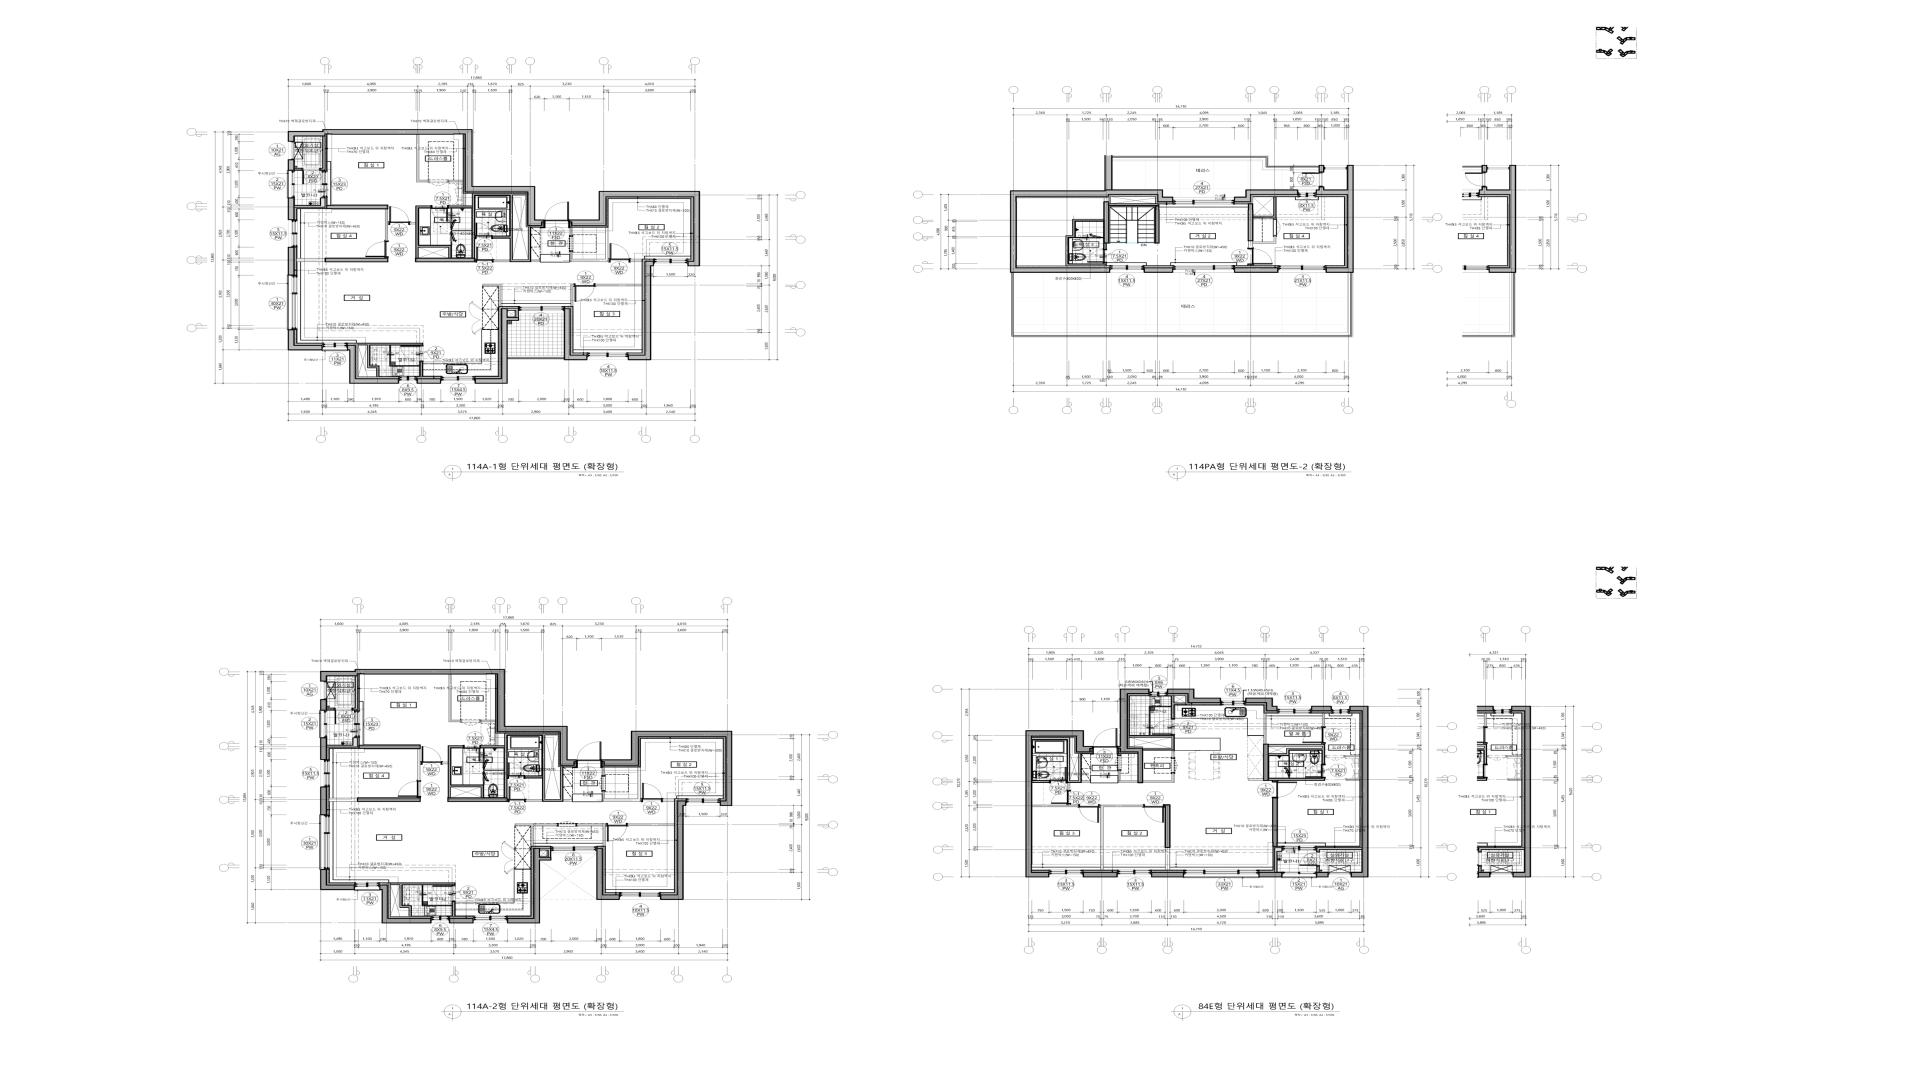door: (576, 741, 601, 767), (543, 203, 570, 228), (1093, 728, 1117, 754), (1271, 781, 1298, 798), (608, 243, 630, 262), (1247, 248, 1273, 265), (605, 823, 628, 841), (1079, 804, 1101, 823), (400, 345, 423, 363), (641, 783, 662, 802), (421, 746, 442, 765), (388, 207, 409, 225), (574, 284, 595, 302), (1143, 804, 1164, 823), (1303, 727, 1325, 744), (398, 781, 421, 798), (433, 885, 455, 902), (1151, 719, 1175, 735), (365, 241, 389, 257), (1302, 173, 1324, 187), (463, 745, 481, 762), (475, 223, 493, 240), (302, 167, 320, 185), (1299, 852, 1320, 866), (508, 762, 525, 779), (508, 786, 526, 802), (475, 247, 493, 262), (1305, 764, 1325, 778), (1051, 790, 1071, 804), (1088, 249, 1108, 264), (335, 708, 352, 724), (431, 206, 448, 222), (1050, 767, 1067, 783), (429, 179, 448, 186), (460, 720, 481, 725), (1325, 756, 1345, 761), (558, 822, 576, 827), (1171, 758, 1178, 773)
wall: (320, 669, 576, 766), (287, 129, 543, 225), (1011, 273, 1353, 338), (1010, 156, 1174, 273), (1026, 731, 1093, 877), (601, 731, 732, 806), (570, 191, 700, 266), (481, 733, 572, 802), (448, 194, 539, 262), (1316, 165, 1354, 273), (1349, 705, 1369, 877), (506, 848, 551, 923), (475, 309, 520, 384), (1118, 688, 1150, 783), (1113, 156, 1319, 170), (1100, 804, 1143, 870), (659, 800, 686, 901), (628, 261, 654, 360), (1033, 738, 1091, 783), (409, 206, 452, 257), (442, 745, 484, 798), (390, 882, 455, 916), (359, 343, 423, 377), (347, 345, 400, 384), (380, 885, 431, 923), (1065, 219, 1106, 266), (603, 767, 641, 802), (570, 228, 608, 262), (596, 848, 620, 901), (564, 309, 588, 360), (1269, 744, 1325, 764), (1129, 736, 1175, 758), (514, 824, 558, 847), (1167, 688, 1221, 703), (1234, 190, 1299, 202), (320, 869, 355, 890), (287, 330, 322, 351), (576, 824, 605, 847), (448, 674, 460, 723), (417, 135, 429, 182), (1254, 198, 1276, 219), (1245, 698, 1278, 711), (483, 284, 501, 306), (1143, 773, 1175, 783), (1249, 236, 1276, 248), (326, 204, 388, 210), (1171, 696, 1185, 719), (327, 737, 357, 748), (415, 257, 475, 262), (1164, 804, 1171, 848), (294, 198, 324, 207), (1118, 770, 1138, 783), (1273, 798, 1278, 847), (1247, 203, 1254, 241), (357, 798, 421, 802), (324, 258, 388, 262), (359, 745, 421, 749), (447, 798, 508, 802), (1234, 268, 1279, 273), (1104, 202, 1109, 244), (508, 356, 563, 360), (1263, 744, 1269, 781), (320, 786, 327, 815), (287, 247, 294, 276), (1274, 848, 1282, 872), (1083, 872, 1118, 877), (1316, 848, 1362, 852), (352, 676, 357, 711), (320, 137, 326, 170), (1151, 872, 1184, 877), (1143, 268, 1174, 273), (1269, 778, 1325, 781), (320, 737, 327, 760), (287, 198, 294, 220), (1155, 207, 1159, 244), (448, 918, 473, 923), (417, 378, 442, 384), (1109, 203, 1159, 206), (1258, 872, 1283, 877), (595, 284, 642, 286), (1033, 804, 1079, 807), (1263, 713, 1267, 744), (328, 798, 357, 802), (1311, 705, 1332, 711), (297, 258, 324, 262), (541, 848, 551, 857), (508, 309, 518, 318), (1166, 848, 1170, 870), (1316, 872, 1329, 878), (418, 749, 421, 781), (385, 210, 388, 241), (320, 699, 327, 711), (287, 160, 294, 171), (451, 902, 456, 916), (628, 824, 674, 825), (571, 284, 574, 306), (419, 363, 423, 377), (630, 258, 642, 262), (1033, 781, 1050, 783), (1319, 165, 1324, 173), (481, 720, 496, 723), (1323, 713, 1325, 727), (662, 799, 674, 802), (496, 733, 498, 745), (295, 167, 302, 171), (1067, 783, 1071, 790), (603, 767, 605, 775), (570, 228, 572, 236), (1316, 866, 1320, 872), (448, 181, 463, 182), (1249, 779, 1263, 781), (1345, 756, 1360, 757), (327, 708, 334, 711), (1346, 779, 1360, 781), (1104, 244, 1106, 249), (1118, 754, 1121, 756)
window: (1184, 869, 1258, 878), (286, 276, 298, 330), (319, 815, 330, 869), (1174, 265, 1234, 273), (1174, 198, 1234, 204), (518, 306, 564, 314), (1279, 265, 1325, 273), (587, 352, 628, 360), (620, 891, 659, 899), (551, 847, 596, 853), (686, 798, 720, 806), (654, 258, 687, 266), (442, 376, 475, 384), (473, 915, 506, 923), (1110, 265, 1143, 273), (289, 220, 298, 247), (286, 171, 295, 198), (320, 760, 330, 786), (355, 882, 380, 891), (1278, 707, 1311, 713), (1050, 870, 1083, 877), (1118, 870, 1151, 877), (1283, 872, 1316, 878), (352, 711, 360, 737), (319, 711, 327, 737), (323, 343, 347, 351), (1221, 698, 1245, 705), (1282, 845, 1316, 851), (320, 171, 327, 198), (400, 376, 417, 384), (431, 915, 448, 923), (1299, 190, 1316, 198), (1324, 165, 1346, 170), (1150, 690, 1167, 696), (1332, 707, 1349, 713), (320, 682, 327, 699), (1329, 872, 1350, 877), (289, 142, 294, 160)
